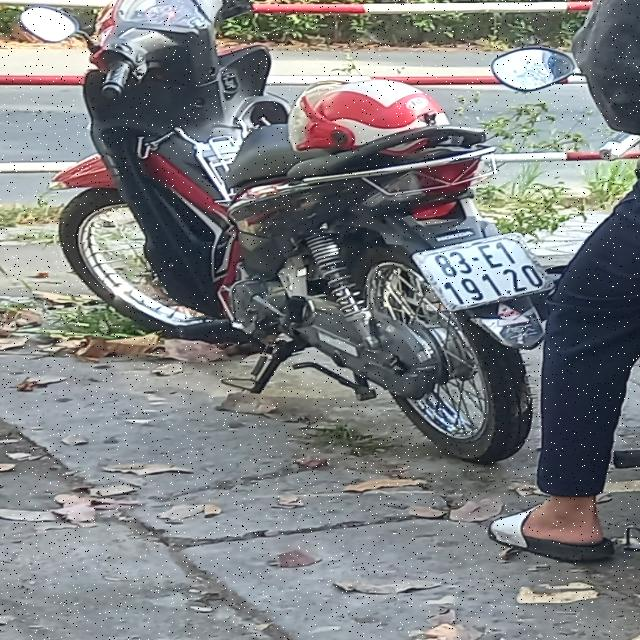0: (521, 265, 543, 288)
1: (479, 272, 504, 296), (442, 280, 465, 306), (494, 240, 517, 264)
2: (500, 268, 527, 292)
3: (451, 250, 472, 274)
8: (435, 254, 456, 278)
9: (462, 278, 484, 302)
E: (478, 242, 502, 269)
